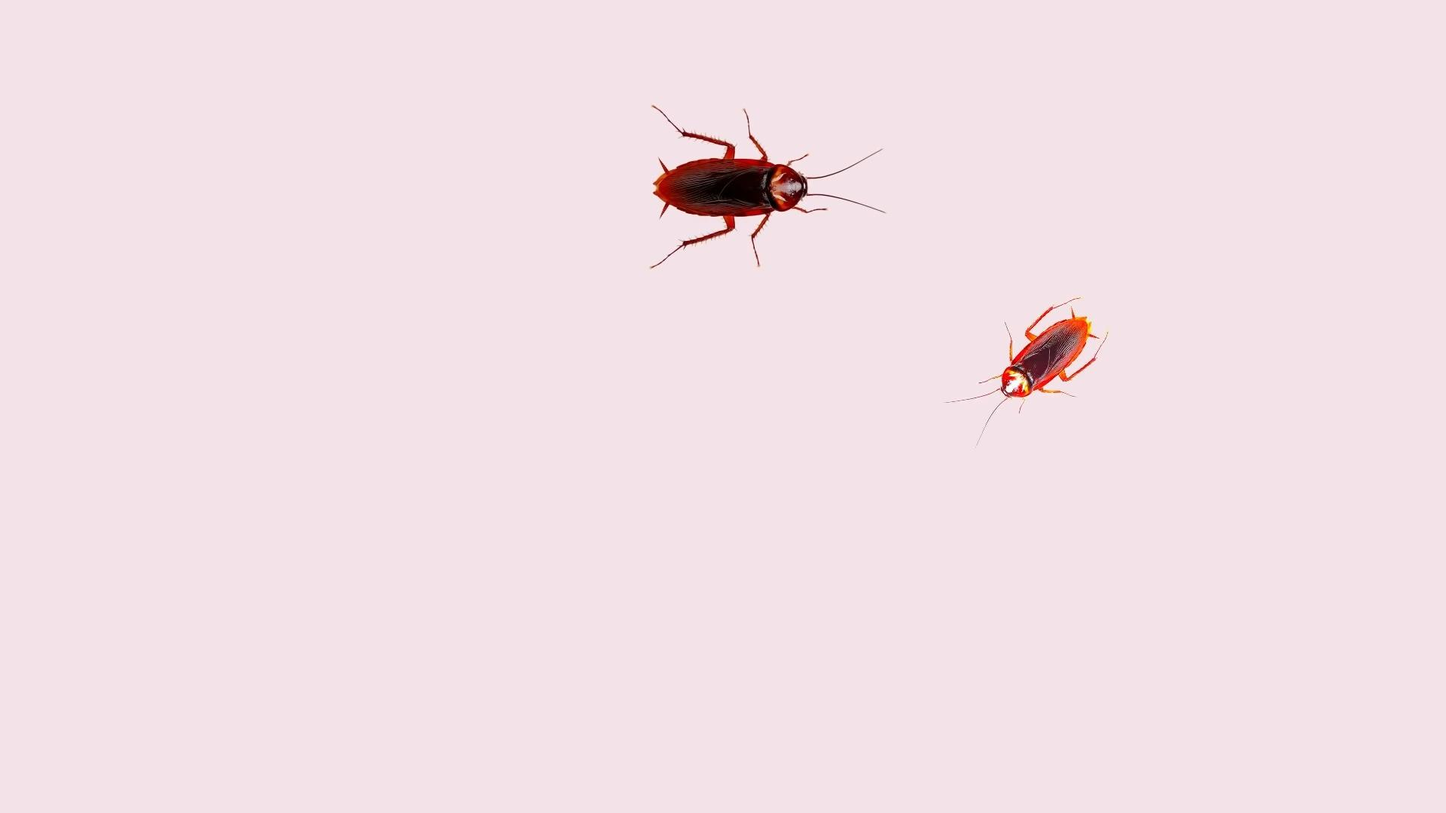cockroach: (618, 89, 894, 282), (950, 292, 1098, 439)
